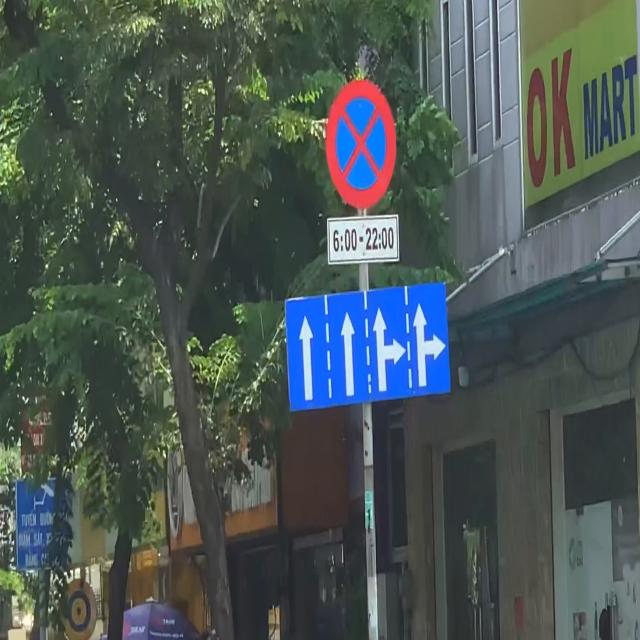Cam dung va do: (325, 79, 396, 209)
